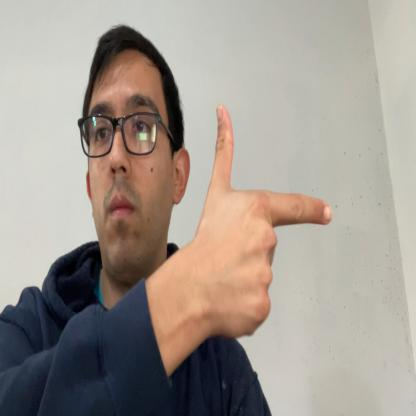G: (202, 103, 332, 336)
